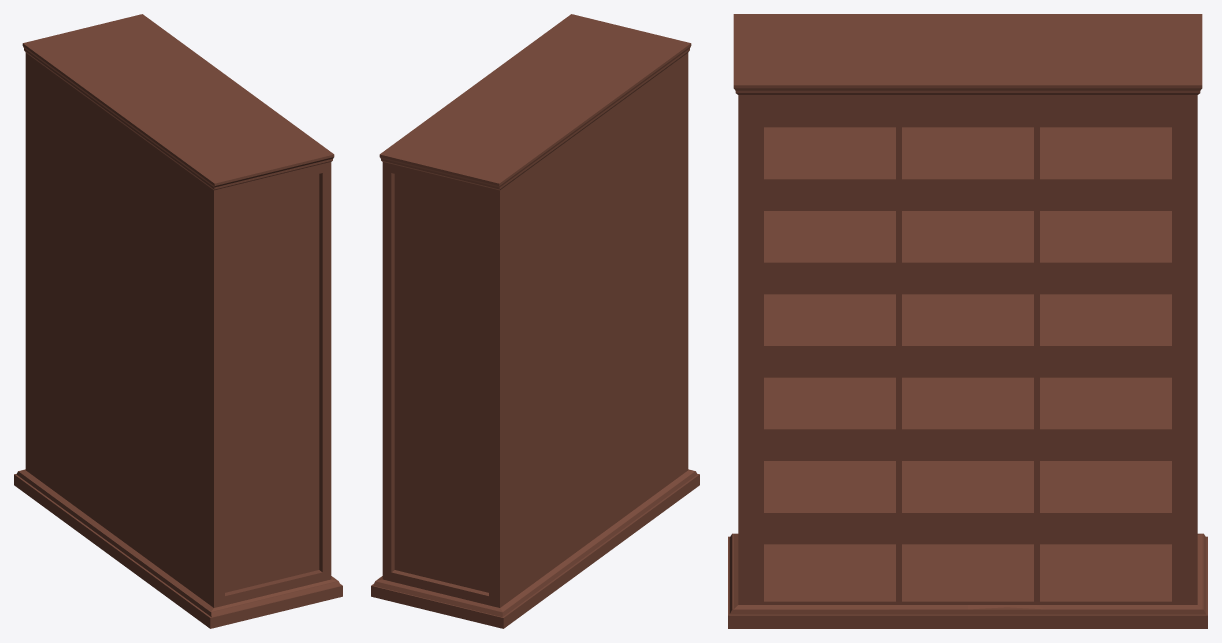
File: estante2.fbx
The picture shows the model from 3 angles, left to right: view 1: azimuth 30°, elevation 25°; view 2: azimuth 150°, elevation 25°; view 3: azimuth 270°, elevation 25°; orthographic projection. The views are drawn at different scales.
Parts seen in each view (by area): view 1: estante 2; view 2: estante 2; view 3: estante 2.
Boxes of the visible parts, box(x1,y1,x2,y2) form: estante 2: box(14, 14, 342, 628); estante 2: box(371, 14, 699, 628); estante 2: box(728, 14, 1207, 628).
Bounding box in the file's own units: 122 × 389 × 313.
